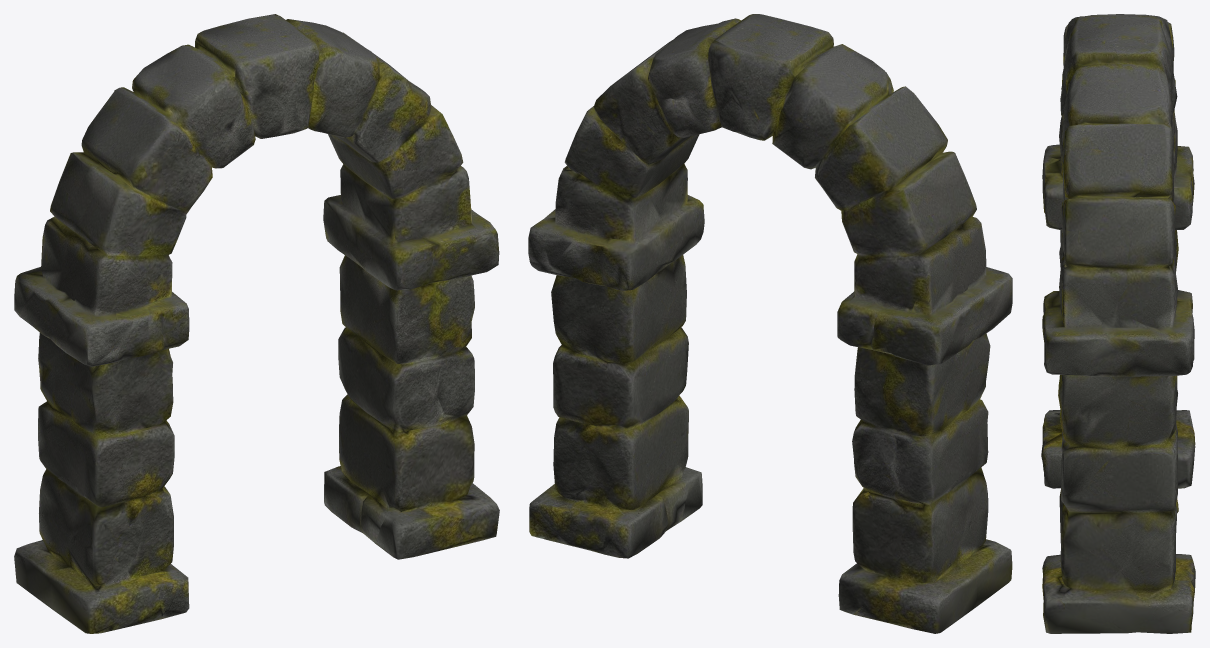
The model's file is moss_arch.glb.
3 views of the same model, side by side, from view 1: azimuth 30°, elevation 25°; view 2: azimuth 150°, elevation 25°; view 3: azimuth 270°, elevation 25° (orthographic). The views are drawn at different scales.
Visible parts, largest first — view 1: moss_arch; view 2: moss_arch; view 3: moss_arch.
Part boxes in pixels (x1,y1,x2,y2): moss_arch: (14,14,499,633); moss_arch: (528,14,1012,633); moss_arch: (1041,14,1195,633).
Bounding box in the file's own units: 1.57 × 1.9 × 0.5263.
1 material, 1 textured.
